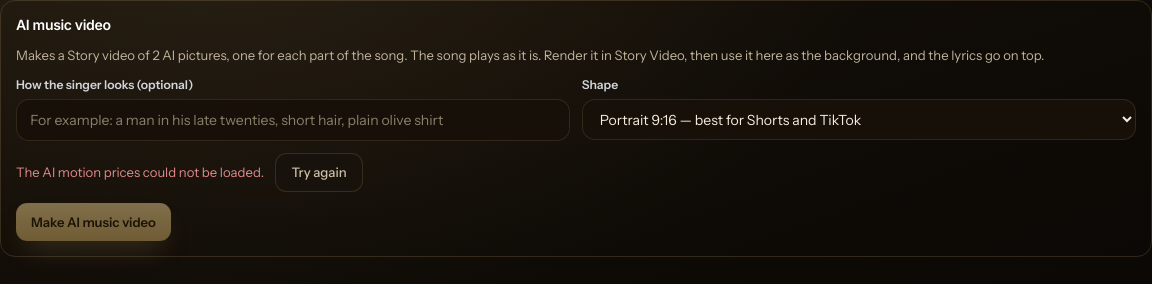
MusicVideoCard › when the prices cannot be loaded, says so and keeps Make off until they load
The image size is (1152, 284).
Check: the text "The AI motion prices could not be loaded." is shown, box x1=16 y1=163 x2=264 y2=182
Check: the button "Make AI music video" is disabled, box x1=16 y1=203 x2=171 y2=241
Click the button "Try again": (319, 172) x1=276 y1=152 x2=363 y2=192
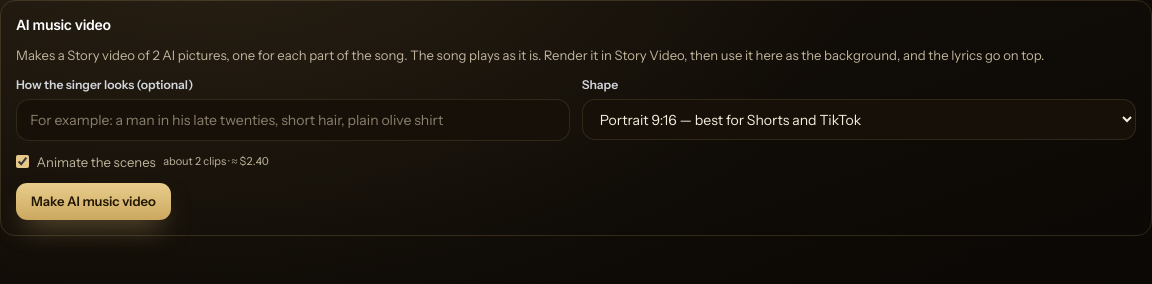
Check: the text "about 2 clips · ≈ $2.40" is shown, box x1=163 y1=153 x2=269 y2=171
Check: the button "Make AI music video" is enabled, box x1=16 y1=182 x2=171 y2=220
